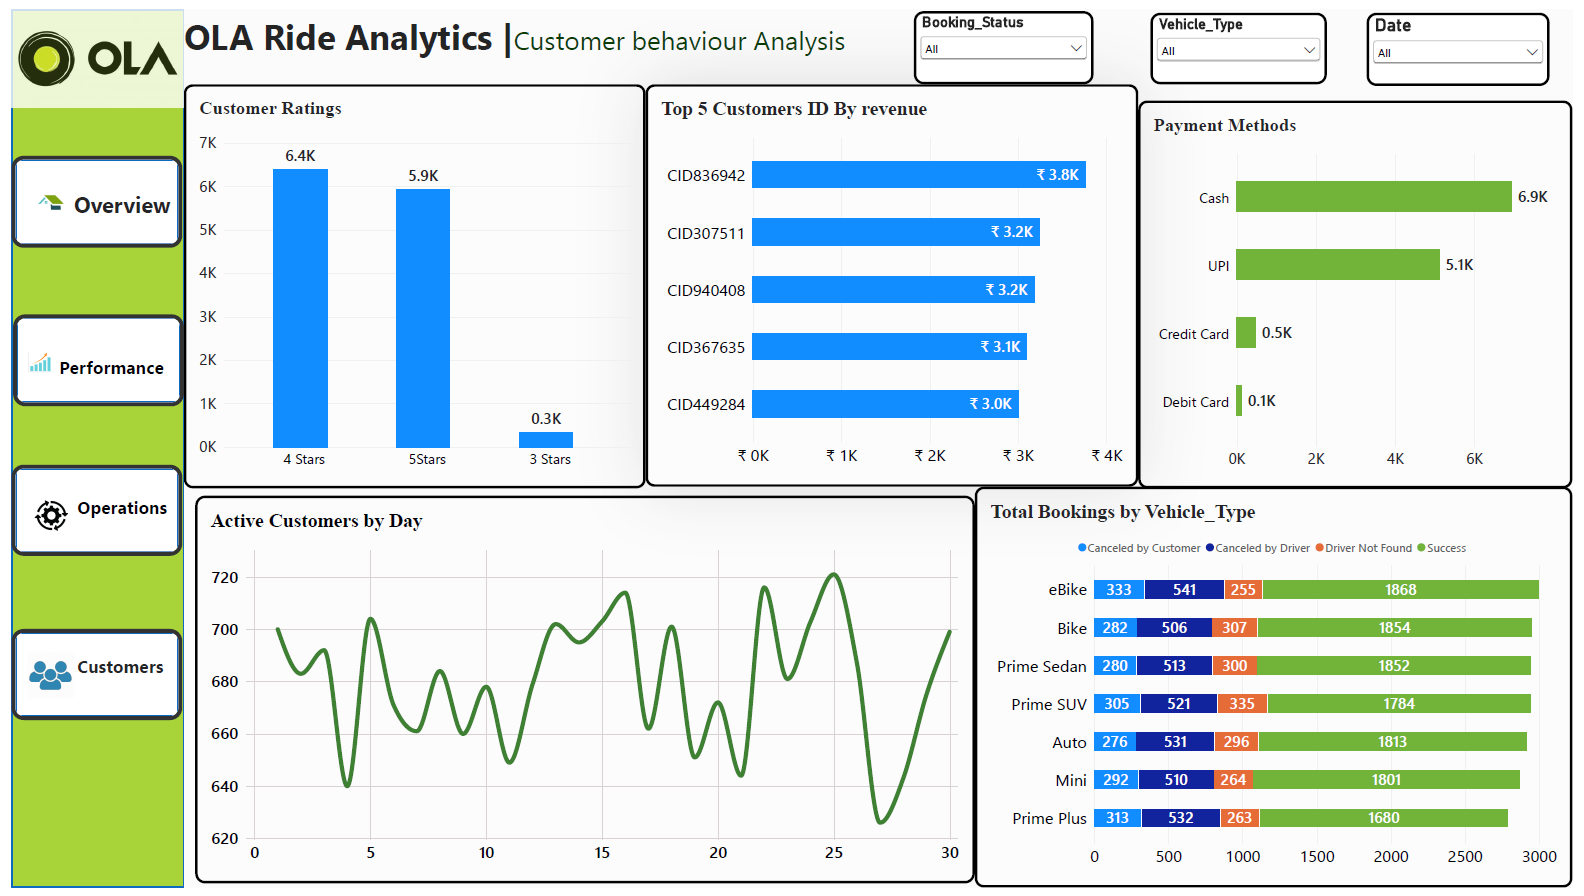

The page's visual inventory and layout, read from the dashboard file:
{"tool":"powerbi","page":{"name":"Customer Behaviour","canvas":[1920,1080],"ordinal":3},"visuals":[{"type":"lineChart","title":"Active Customers by Day","fields":{"Category":["ola bookings_clean.Date.1.Variation.Date Hierarchy.Day"],"Y":["ola bookings_clean.Daily Active Customers"]},"box":[226.4,598.2,958.9,476.7],"z":4},{"type":"clusteredBarChart","title":"Top 5 Customers ID By revenue","fields":{"Category":["ola bookings_clean.Customer_ID"],"Y":["ola bookings_clean.Total Revenue"]},"box":[780.4,92,605.5,495.1],"z":6},{"type":"barChart","title":"Total Bookings by Vehicle_Type ","fields":{"Category":["ola bookings_clean.Vehicle_Type"],"Series":["ola bookings_clean.Booking_Status"],"Y":["ola bookings_clean.Total Bookings"]},"box":[1185.3,587.1,734.4,493.3],"z":7},{"type":"slicer","fields":{"Values":["ola bookings_clean.Date.1"]},"box":[1667.5,3.7,224.5,90.2],"z":8},{"type":"slicer","fields":{"Values":["ola bookings_clean.Vehicle_Type"]},"box":[1400.6,3.7,217.2,88.3],"z":9},{"type":"slicer","fields":{"Values":["ola bookings_clean.Booking_Status"]},"box":[1109.8,1.8,220.9,90.2],"z":10},{"type":"clusteredColumnChart","title":"Customer Ratings ","fields":{"Category":["ola bookings_clean.Customer Rating Category"],"Y":["ola bookings_clean.Rated Bookings"]},"box":[211.7,92,568.7,496.9],"z":11},{"type":"barChart","title":"Payment Methods","fields":{"Category":["ola bookings_clean.Payment_Method"],"Series":["ola bookings_clean.Booking_Status"],"Y":["ola bookings_clean.Total Bookings"]},"box":[1385.9,112.3,533.7,476.7],"z":12},{"type":"shape","box":[0,0,211.7,1080.4],"z":13},{"type":"textbox","box":[211.7,3.7,885.3,99.4],"z":14},{"type":"shape","box":[0,180.4,209.8,112.3],"z":15},{"type":"shape","box":[1.8,375.5,209.8,112.3],"z":16},{"type":"shape","box":[0,762,209.8,112.3],"z":17},{"type":"shape","box":[0,559.5,209.8,112.3],"z":18},{"type":"image","box":[9.2,182.2,79.1,110.4],"z":19},{"type":"image","box":[14.7,397.5,42.3,69.9],"z":20},{"type":"image","box":[14.7,587.1,68.1,71.8],"z":21},{"type":"image","box":[20.2,784.1,57.1,69.9],"z":22},{"type":"textbox","box":[77.3,220.9,127,53.4],"z":23},{"type":"textbox","box":[58.9,425.2,167.5,62.6],"z":24},{"type":"textbox","box":[81,598.2,127,51.5],"z":25},{"type":"textbox","box":[81,793.3,112.3,51.5],"z":26},{"type":"image","box":[0,0,211.7,119.6],"z":27}]}

Visuals, with their boxes in screenshot pixels (x1, y1, x2, y2):
"Active Customers by Day" lineChart: locate(188, 491, 968, 879)
"Top 5 Customers ID By revenue" clusteredBarChart: locate(639, 79, 1132, 482)
"Total Bookings by Vehicle_Type " barChart: locate(968, 482, 1566, 883)
slicer - ola bookings_clean.Date.1: locate(1361, 7, 1543, 81)
slicer - ola bookings_clean.Vehicle_Type: locate(1144, 7, 1320, 79)
slicer - ola bookings_clean.Booking_Status: locate(907, 6, 1087, 79)
"Customer Ratings " clusteredColumnChart: locate(176, 79, 639, 483)
"Payment Methods" barChart: locate(1132, 95, 1566, 483)
shape: locate(4, 4, 176, 883)
textbox: locate(176, 7, 897, 88)
shape: locate(4, 151, 175, 242)
shape: locate(6, 310, 176, 401)
shape: locate(4, 624, 175, 715)
shape: locate(4, 459, 175, 551)
image: locate(12, 152, 76, 242)
image: locate(16, 328, 50, 384)
image: locate(16, 482, 71, 540)
image: locate(21, 642, 67, 699)
textbox: locate(67, 184, 170, 227)
textbox: locate(52, 350, 188, 401)
textbox: locate(70, 491, 173, 533)
textbox: locate(70, 650, 161, 691)
image: locate(4, 4, 176, 101)
